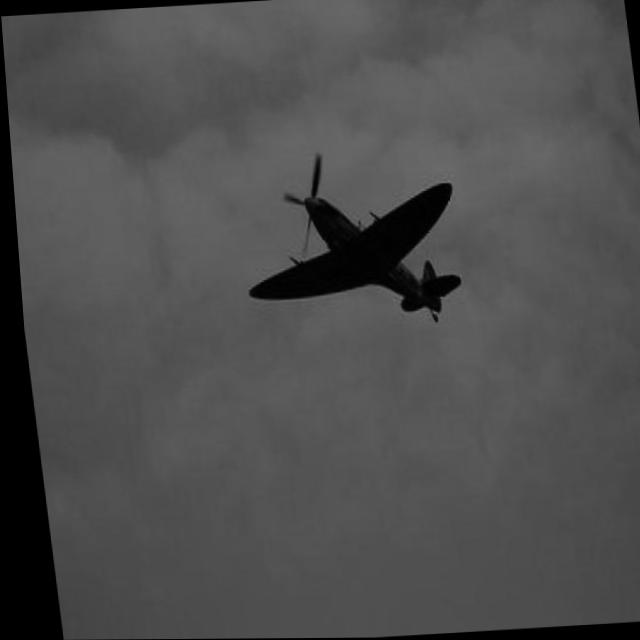aeroplane: (226, 146, 466, 344)
